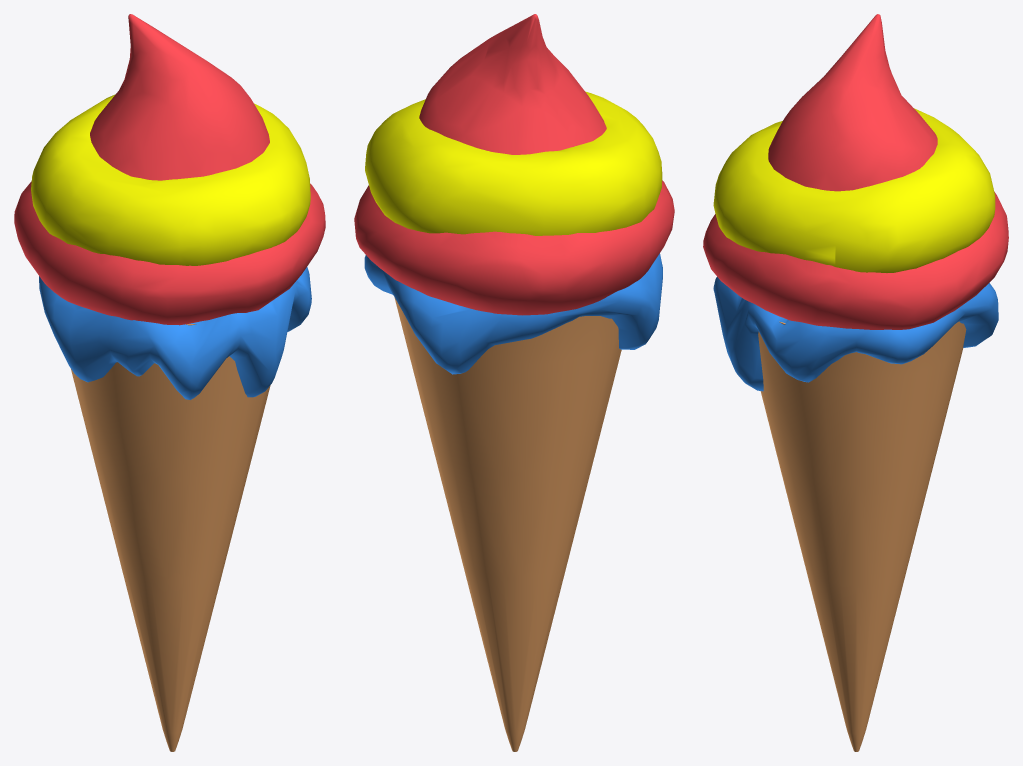
File: IceCream.fbx
The picture shows the model from 3 angles, left to right: view 1: azimuth 30°, elevation 25°; view 2: azimuth 150°, elevation 25°; view 3: azimuth 270°, elevation 25°; orthographic projection. The views are drawn at different scales.
Visible parts, largest first — view 1: pCylinder19; view 2: pCylinder19; view 3: pCylinder19.
Part boxes in pixels (x1,y1,x2,y2): pCylinder19: (14,14,325,751); pCylinder19: (354,14,674,751); pCylinder19: (703,14,1008,751).
Bounding box in the file's own units: 111 × 112 × 292.
1 material, 1 textured.
